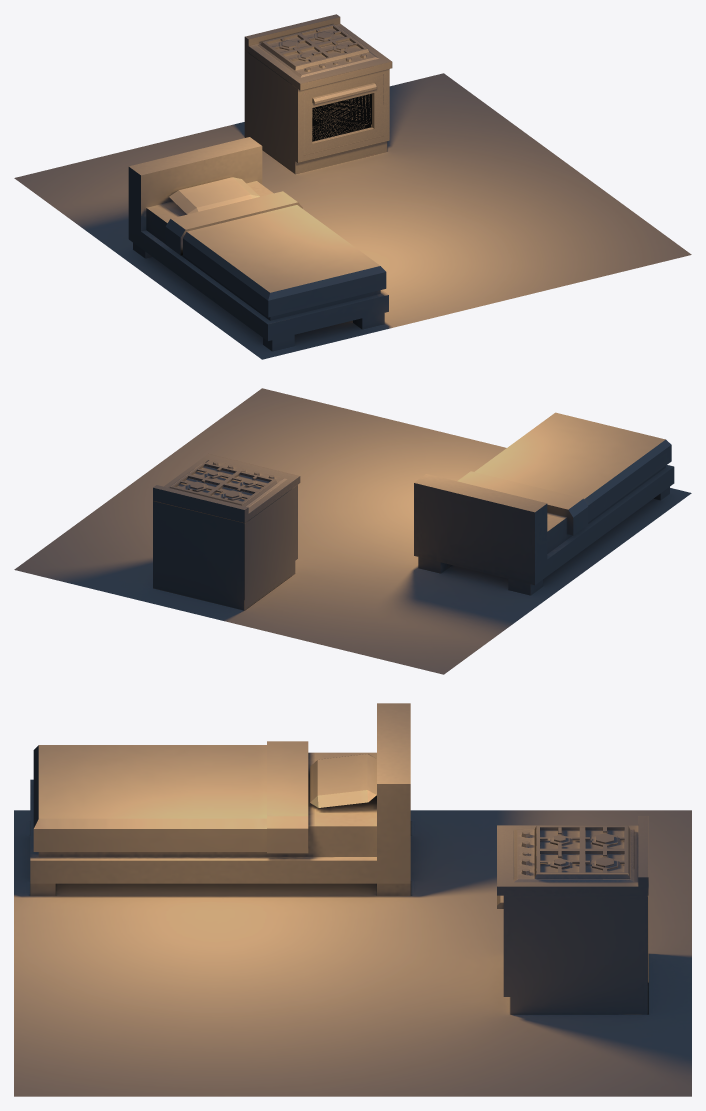
The model's file is baked.glb.
The picture shows the model from 3 angles, top to bottom: view 1: azimuth 30°, elevation 25°; view 2: azimuth 150°, elevation 25°; view 3: azimuth 270°, elevation 25°; orthographic projection. The views are drawn at different scales.
Parts seen in each view (by area): view 1: Plane, bedSingle(Clone), kitchenStove(Clone); view 2: Plane, bedSingle(Clone), kitchenStove(Clone); view 3: Plane, bedSingle(Clone), kitchenStove(Clone).
Boxes of the visible parts, x1,y1,x2,y2 form: Plane: (14, 73, 691, 359); bedSingle(Clone): (128, 137, 388, 351); kitchenStove(Clone): (244, 14, 392, 174); Plane: (14, 388, 691, 674); bedSingle(Clone): (414, 412, 674, 595); kitchenStove(Clone): (153, 453, 300, 610); Plane: (14, 810, 691, 1096); bedSingle(Clone): (30, 703, 410, 895); kitchenStove(Clone): (497, 816, 648, 1014).
Size of the model in its own units: 13.72 by 3.07 by 13.72.
Materials: 5 (5 with a texture image).
